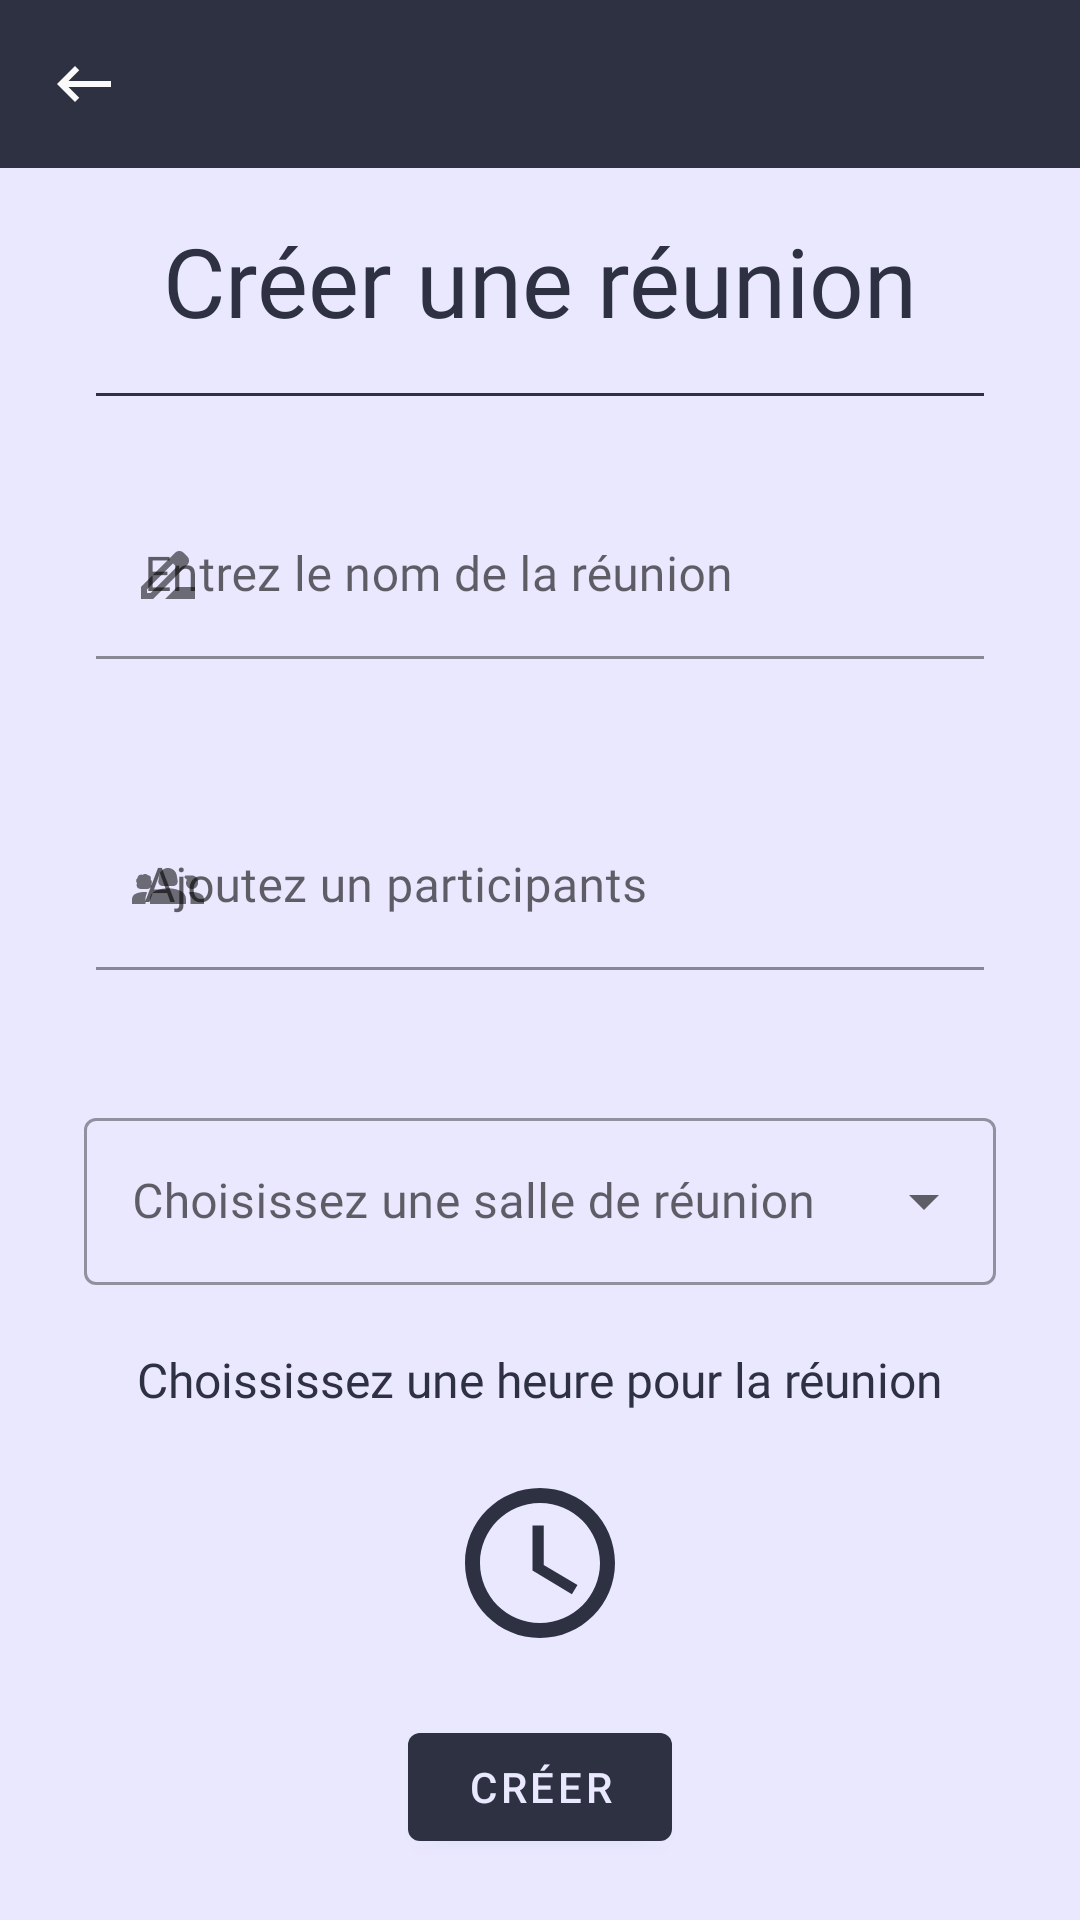

Screen size 1080×1920. Icon name, then its center in pixels as (x,y):
access time two: (540,1563)
